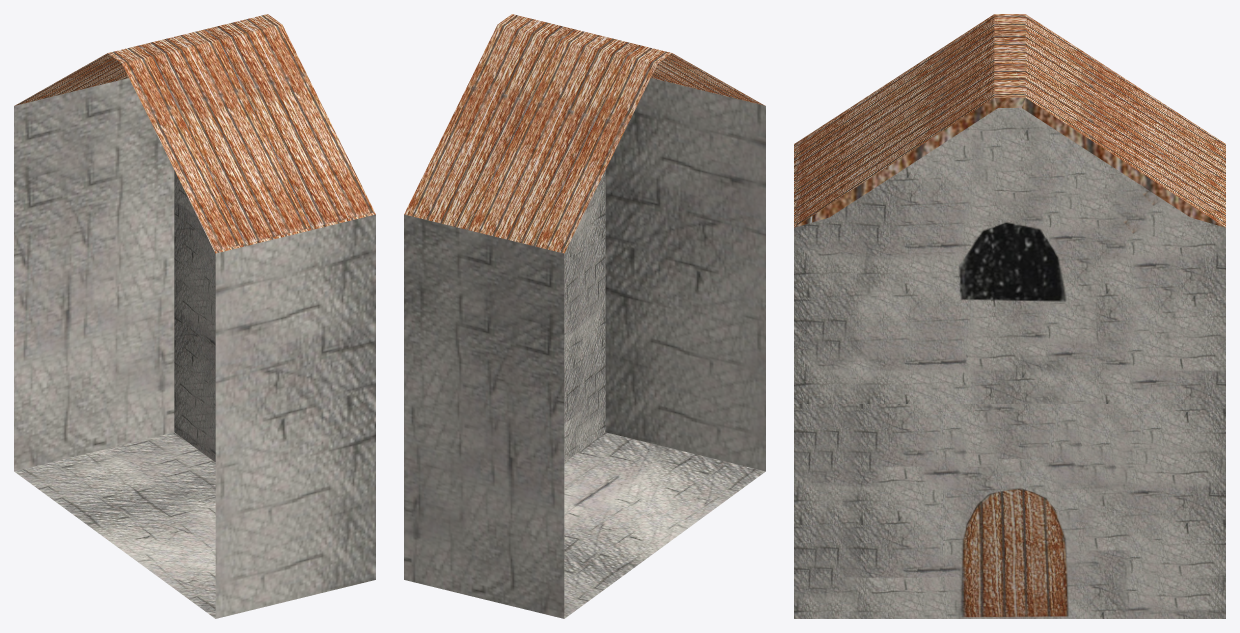
Rendered from Casetta.fbx.
3 views of the same model, side by side, from view 1: azimuth 30°, elevation 25°; view 2: azimuth 150°, elevation 25°; view 3: azimuth 270°, elevation 25° (orthographic). The views are drawn at different scales.
Visible parts, largest first — view 1: Cube; view 2: Cube; view 3: Cube.
Part boxes in pixels (<box>): Cube: <box>14,14,375,618</box>; Cube: <box>404,14,765,618</box>; Cube: <box>794,14,1225,618</box>.
Size of the model in its own units: 91.84 by 266 by 200.
